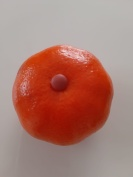Dolorex: (50, 73, 68, 92)
